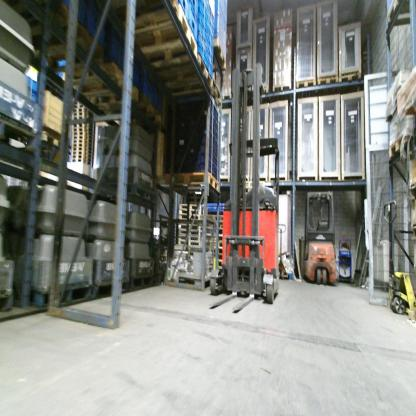forklift: (209, 60, 292, 326), (297, 176, 351, 286)
pallet: (23, 17, 109, 77), (124, 5, 199, 65), (61, 60, 134, 100), (75, 80, 141, 118), (150, 54, 213, 93), (18, 279, 94, 310), (161, 163, 222, 193), (2, 109, 37, 159), (96, 182, 152, 206), (30, 128, 67, 157), (89, 278, 132, 299), (389, 131, 413, 161), (123, 269, 154, 289), (294, 76, 317, 99), (215, 39, 230, 74), (136, 97, 155, 124), (385, 2, 401, 31), (317, 74, 339, 92), (338, 70, 360, 87), (0, 289, 17, 309), (271, 83, 291, 99), (212, 87, 223, 105), (406, 178, 414, 202), (410, 224, 416, 240), (177, 213, 189, 220), (189, 210, 201, 217), (71, 155, 85, 161), (72, 128, 85, 134), (177, 222, 188, 229), (188, 224, 199, 231), (189, 215, 200, 222), (72, 136, 86, 141), (82, 145, 92, 152), (72, 117, 83, 123), (85, 126, 94, 133), (83, 148, 92, 155), (178, 203, 188, 209), (177, 234, 187, 240), (177, 240, 187, 246), (187, 241, 199, 246), (217, 246, 223, 256), (216, 259, 222, 269), (71, 159, 83, 164), (71, 141, 86, 145), (72, 108, 84, 113), (72, 133, 86, 137), (84, 156, 92, 163), (188, 236, 199, 241), (189, 203, 200, 208), (73, 113, 84, 118), (179, 207, 188, 213), (177, 229, 186, 235), (72, 148, 85, 152), (74, 103, 84, 108), (86, 137, 93, 144), (85, 130, 93, 136), (85, 141, 93, 147), (85, 122, 94, 127), (188, 231, 199, 235), (71, 152, 85, 155), (72, 145, 85, 148), (73, 125, 85, 128), (85, 154, 91, 160), (218, 216, 223, 223), (218, 223, 223, 229), (218, 229, 222, 236), (218, 242, 223, 246), (219, 236, 222, 242), (217, 256, 221, 259)
pallet_truck: (381, 194, 415, 321), (277, 221, 292, 278)
stillage: (168, 184, 216, 289), (386, 2, 415, 115), (149, 211, 170, 282)
